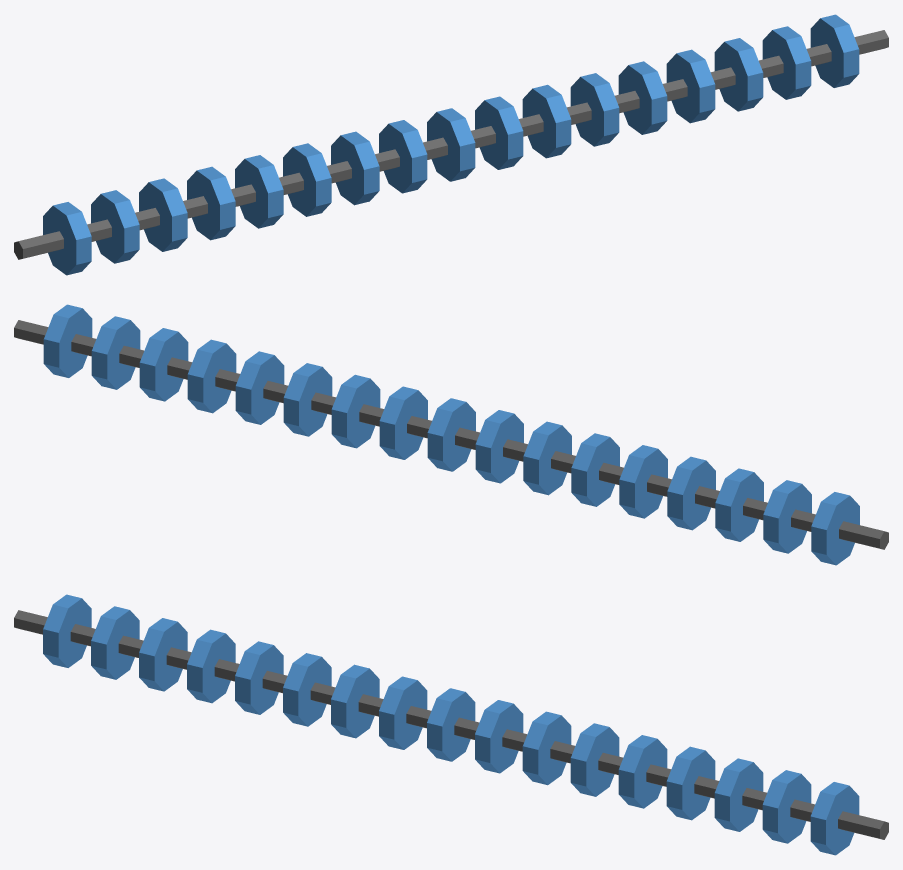
File: ground-intake-bottom-rollers.glb
3 views of the same model, one above another, from view 1: azimuth 30°, elevation 25°; view 2: azimuth 150°, elevation 25°; view 3: azimuth 330°, elevation 25° (orthographic).
Visible parts, largest first — view 1: mesh8, mesh32, mesh96, mesh80, mesh112, mesh64, mesh256, mesh48, mesh272, mesh128, mesh192, mesh240 (+5 smaller); view 2: mesh8, mesh32, mesh96, mesh80, mesh112, mesh64, mesh256, mesh48, mesh272, mesh128, mesh192, mesh240 (+5 smaller); view 3: mesh167, mesh55, mesh103, mesh39, mesh215, mesh87, mesh119, mesh23, mesh231, mesh151, mesh183, mesh199 (+5 smaller).
Part boxes in pixels (box(x1,y1,x2,y2)): mesh8: box(810, 18, 843, 87); mesh32: box(762, 30, 795, 99); mesh96: box(570, 77, 603, 146); mesh80: box(618, 65, 651, 134); mesh112: box(522, 88, 555, 157); mesh64: box(666, 53, 699, 122); mesh256: box(91, 194, 124, 263); mesh48: box(714, 42, 747, 111); mesh272: box(43, 206, 76, 275); mesh128: box(475, 100, 507, 169); mesh192: box(283, 147, 315, 216); mesh240: box(139, 182, 171, 251); mesh8: box(59, 308, 92, 377); mesh32: box(107, 320, 140, 389); mesh96: box(299, 367, 332, 436); mesh80: box(251, 355, 284, 424); mesh112: box(347, 378, 380, 447); mesh64: box(203, 343, 236, 412); mesh256: box(778, 484, 811, 553); mesh48: box(155, 332, 188, 401); mesh272: box(826, 496, 859, 565); mesh128: box(395, 390, 427, 459); mesh192: box(587, 437, 619, 506); mesh240: box(731, 472, 763, 541); mesh167: box(346, 668, 379, 738); mesh55: box(682, 750, 715, 819); mesh103: box(538, 715, 571, 784); mesh39: box(730, 762, 763, 831); mesh215: box(202, 633, 235, 703); mesh87: box(586, 727, 619, 796); mesh119: box(490, 703, 523, 773); mesh23: box(778, 774, 811, 843); mesh231: box(154, 622, 187, 691); mesh151: box(394, 680, 427, 749); mesh183: box(298, 657, 331, 726); mesh199: box(250, 645, 283, 714).
Bounding box in the file's own units: 0.7094 × 0.0469 × 0.0469.
